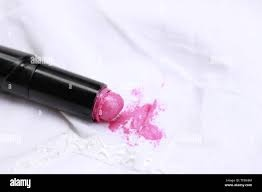lipstick: (115, 92, 166, 147)
